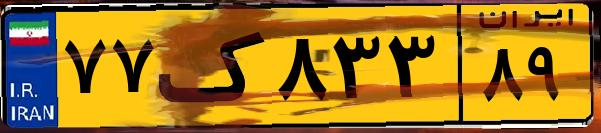3: (385, 28, 445, 110), (330, 28, 385, 110)
7: (57, 26, 110, 100), (110, 28, 158, 98)
8: (270, 28, 330, 110), (475, 38, 525, 113)
9: (525, 38, 570, 115)
ک: (158, 12, 270, 120)
